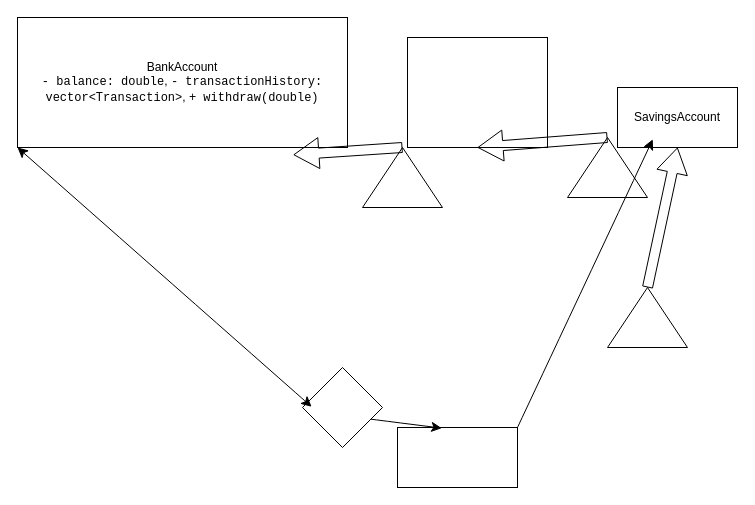
Some shapes in this 755 by 505 pixel diagram are drawn without their labels. Each missing label, with the centre of its shape:
"CheckingAccount - transactionFee: double" belongs at point (477, 92).
"Transaction + type: string , + amount: double" belongs at point (457, 457).
